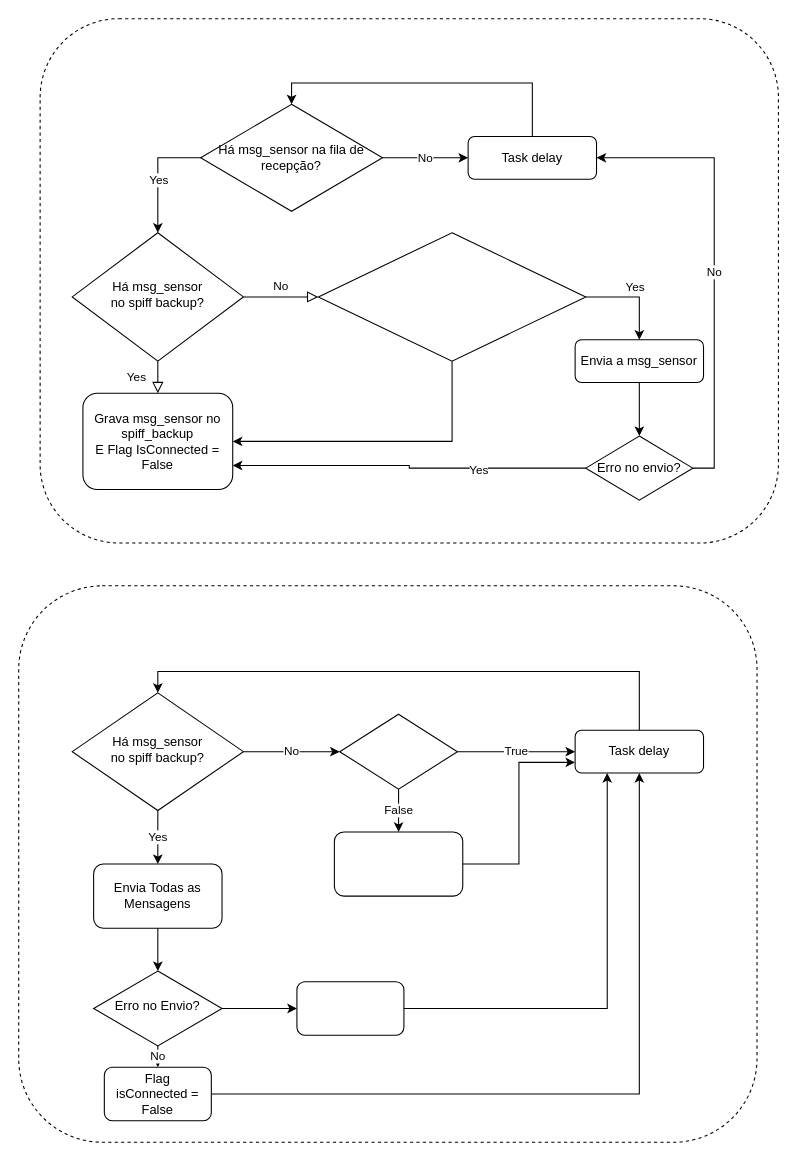
Image size: 797x1161. Some labels were removed from this diagram. The shapes that lost their labels are listed below. From the top down, each one's box as (x1, y1, x2, y2) in pixels, then its label:
(39, 18, 778, 543): Task de verificação da fila de telemetria enviada pelos sensores
(317, 232, 586, 361): Há conexão com a Internet? (Flag isConnected )
(339, 713, 457, 789): Flag IsConnected?
(18, 585, 757, 1142): Task de verificação de conectividade
(333, 831, 463, 896): query DeviceTwin Update isConnected = True Se sucesso
(296, 981, 404, 1035): Flag isConnected = True
